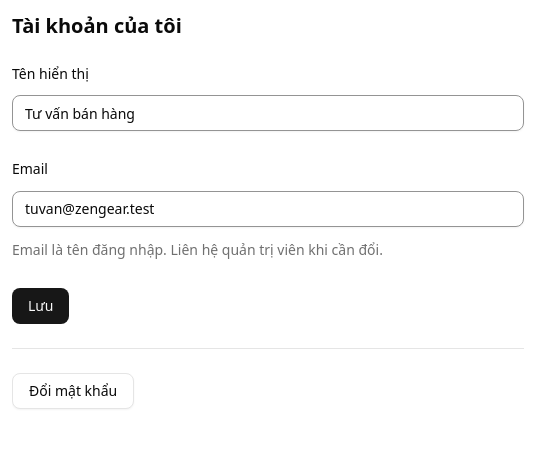
Test: the account › requires the display name before sending
The width and height of the screenshot is (544, 458).
Clear the field labelled "Tên hiển thị". click: coordinates (268, 113)
box: x1=12 y1=95 x2=524 y2=131
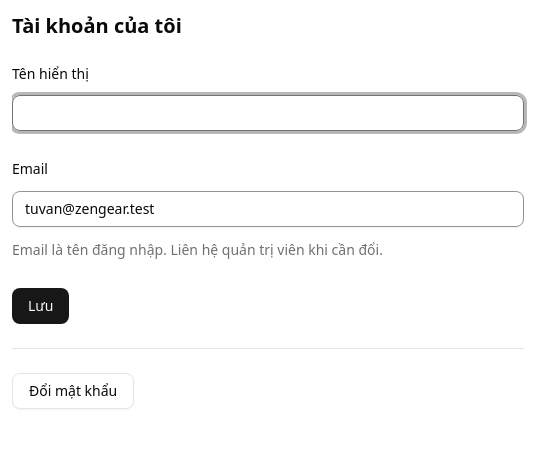
Click the button "Lưu". click: coordinates (41, 306)
box: x1=12 y1=288 x2=69 y2=324
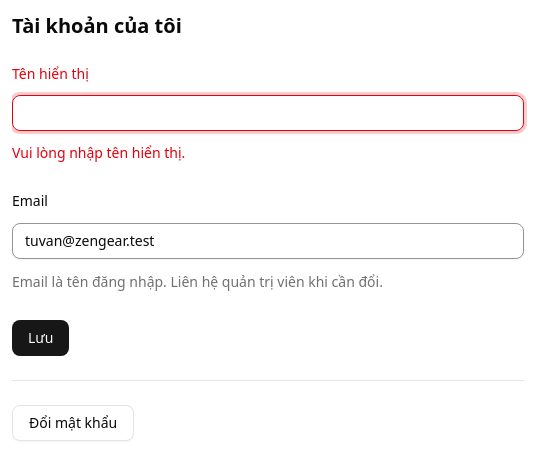
Check: the text "Vui lòng nhập tên hiển thị." is shown, box x1=12 y1=143 x2=185 y2=162
